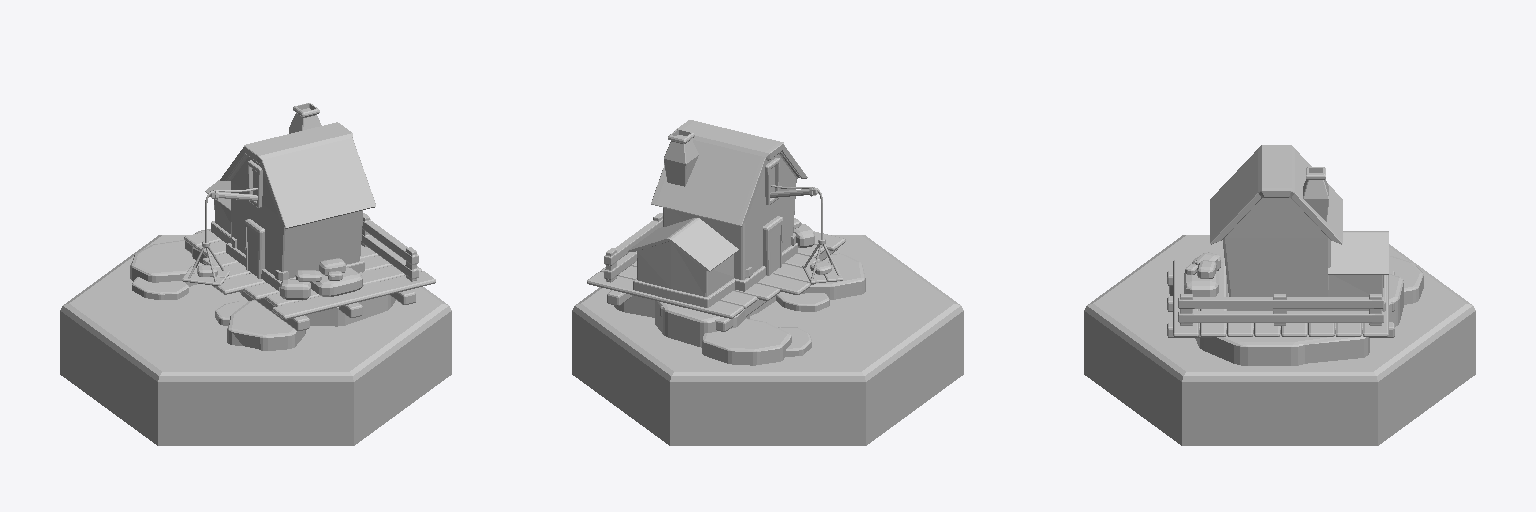
File: SM_carriere.mtl.obj
3 renders of one model, left to right at view 1: azimuth 30°, elevation 25°; view 2: azimuth 150°, elevation 25°; view 3: azimuth 270°, elevation 25°, orthographic.
Visible parts, largest first — view 1: Cylinder, structure, Cylinder.006, planche, Cylinder.001, barierre, Cylinder.002, porte, Cylinder.003, structure.001, pierre, planche.001 (+5 smaller); view 2: Cylinder, structure, structure.001, Cylinder.001, Cylinder.004, Cylinder.006, cheminer, planche.007, barierre, porte, Cylinder.005, Cylinder.002 (+4 smaller); view 3: Cylinder, structure, barierre, Cylinder.002, structure.001, cheminer, Cylinder.001, planche, pierre, planche.001, Cylinder.004.
Boxes of the visible parts, box(x1,y1,x2,y2) form: Cylinder: box(60, 235, 451, 445); structure: box(220, 122, 375, 291); Cylinder.006: box(227, 300, 305, 350); planche: box(272, 271, 435, 319); Cylinder.001: box(130, 240, 203, 286); barierre: box(361, 213, 418, 281); Cylinder.002: box(240, 291, 395, 326); porte: box(245, 219, 264, 278); Cylinder.003: box(132, 277, 188, 299); structure.001: box(205, 180, 230, 243); pierre: box(310, 267, 362, 296); planche.001: box(265, 265, 421, 306); Cylinder: box(572, 235, 963, 445); structure: box(651, 120, 807, 291); structure.001: box(628, 218, 738, 307); Cylinder.001: box(702, 318, 791, 365); Cylinder.004: box(655, 301, 749, 347); Cylinder.006: box(801, 253, 865, 299); cheminer: box(664, 129, 698, 186); planche.007: box(587, 272, 743, 318); barierre: box(604, 213, 662, 282); porte: box(763, 216, 782, 275); Cylinder.005: box(776, 292, 829, 311); Cylinder.002: box(614, 295, 775, 317); Cylinder: box(1084, 235, 1475, 445); structure: box(1210, 145, 1342, 310); barierre: box(1178, 294, 1383, 325); Cylinder.002: box(1195, 309, 1369, 365); structure.001: box(1328, 231, 1388, 311); cheminer: box(1303, 167, 1328, 221); Cylinder.001: box(1389, 256, 1423, 304); planche: box(1173, 260, 1198, 336); pierre: box(1184, 271, 1218, 296); planche.001: box(1200, 263, 1225, 336); Cylinder.004: box(1389, 274, 1403, 326).
Size of the model in its own units: 8.66 by 6.67 by 10.